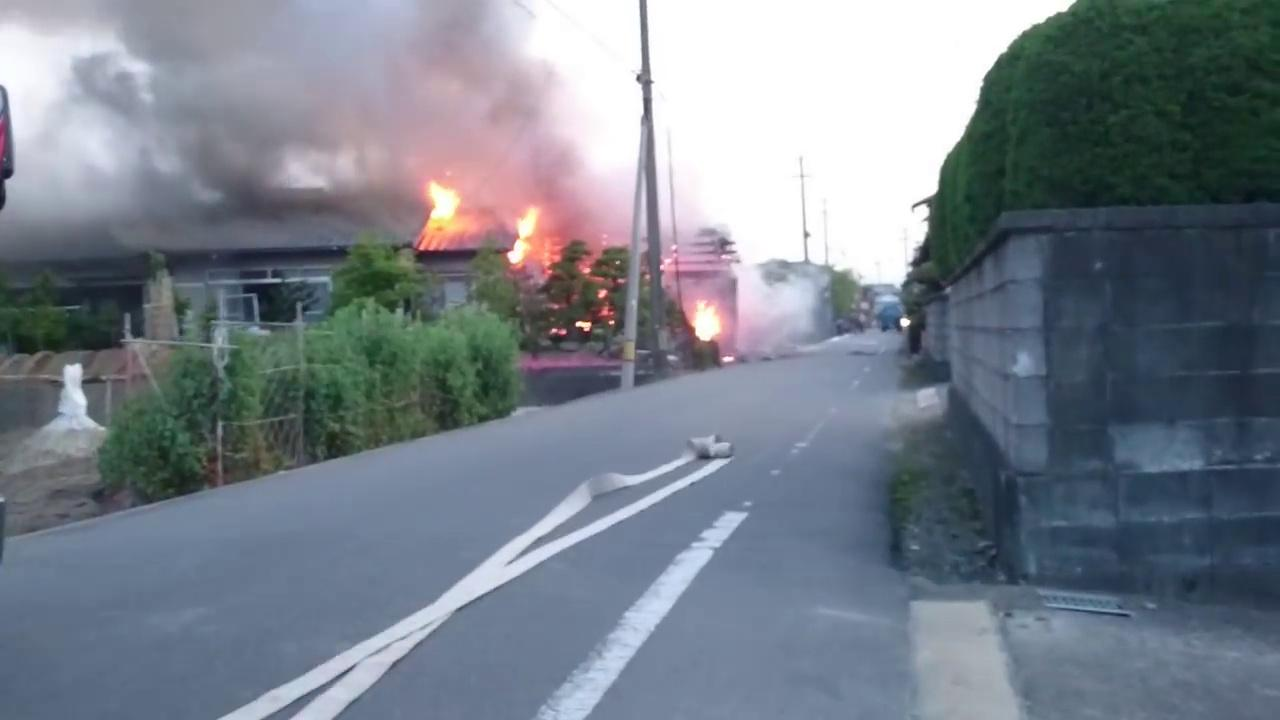fire: (421, 187, 464, 217), (506, 206, 546, 238)
smoke: (150, 5, 545, 173)
